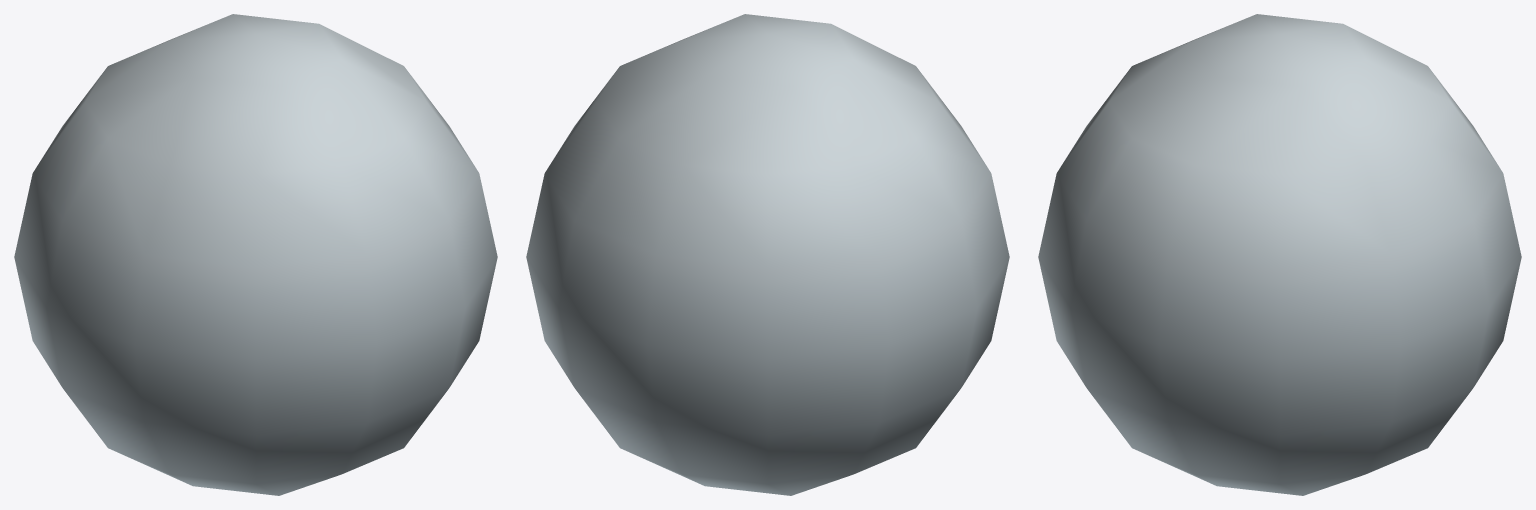
File: drone_1_001.fbx
3 renders of one model, left to right at view 1: azimuth 30°, elevation 25°; view 2: azimuth 150°, elevation 25°; view 3: azimuth 270°, elevation 25°, orthographic.
Parts seen in each view (by area): view 1: drone_1_001; view 2: drone_1_001; view 3: drone_1_001.
Part boxes in pixels (left/top/right/bottom): drone_1_001: left=14, top=14, right=497, bottom=495; drone_1_001: left=526, top=14, right=1009, bottom=495; drone_1_001: left=1038, top=14, right=1521, bottom=495.
Bounding box in the file's own units: 173 × 173 × 174.
